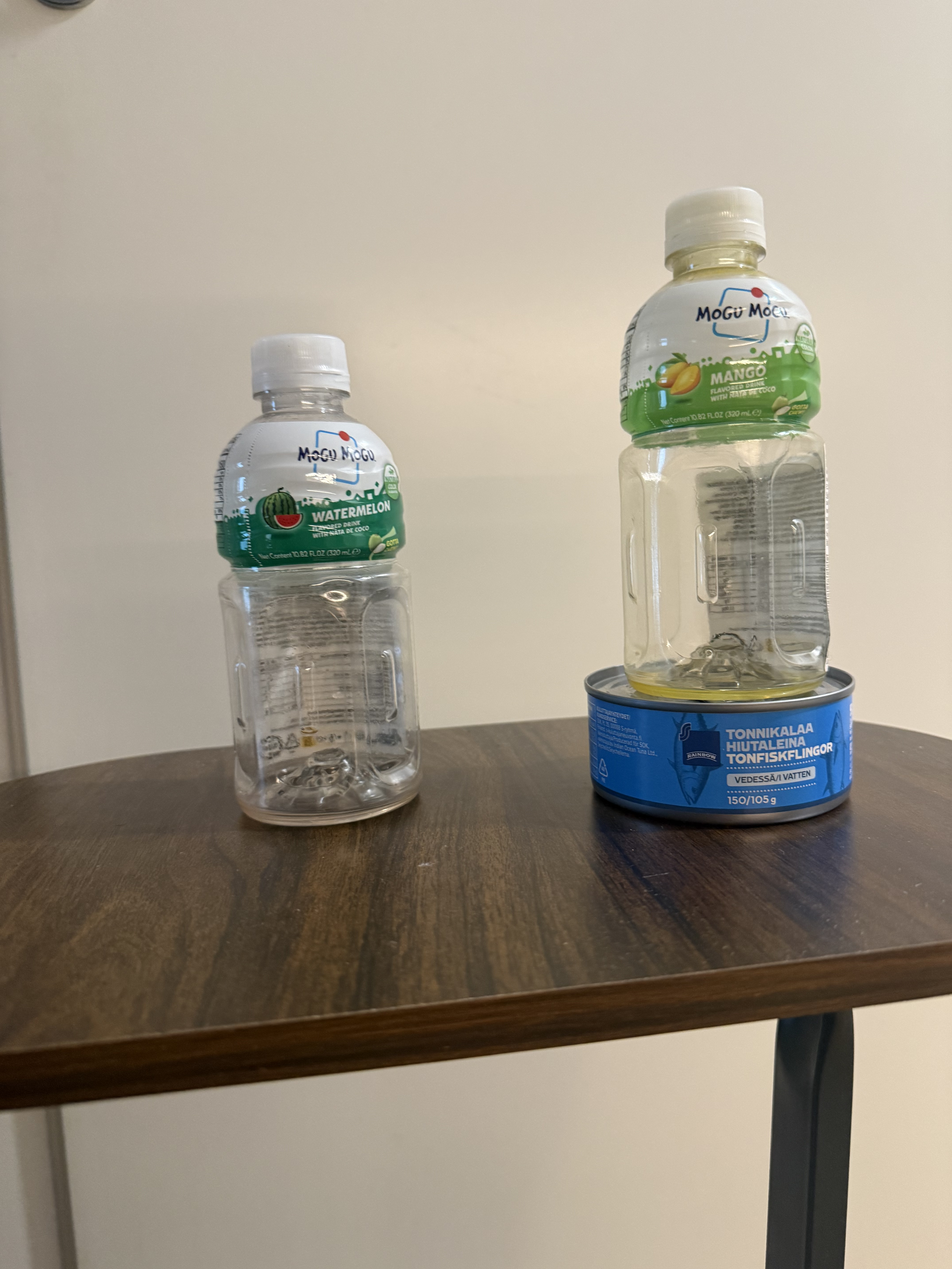Konservburk: (590, 698, 861, 822)
Pantburk: (614, 188, 839, 696), (205, 334, 420, 815)
